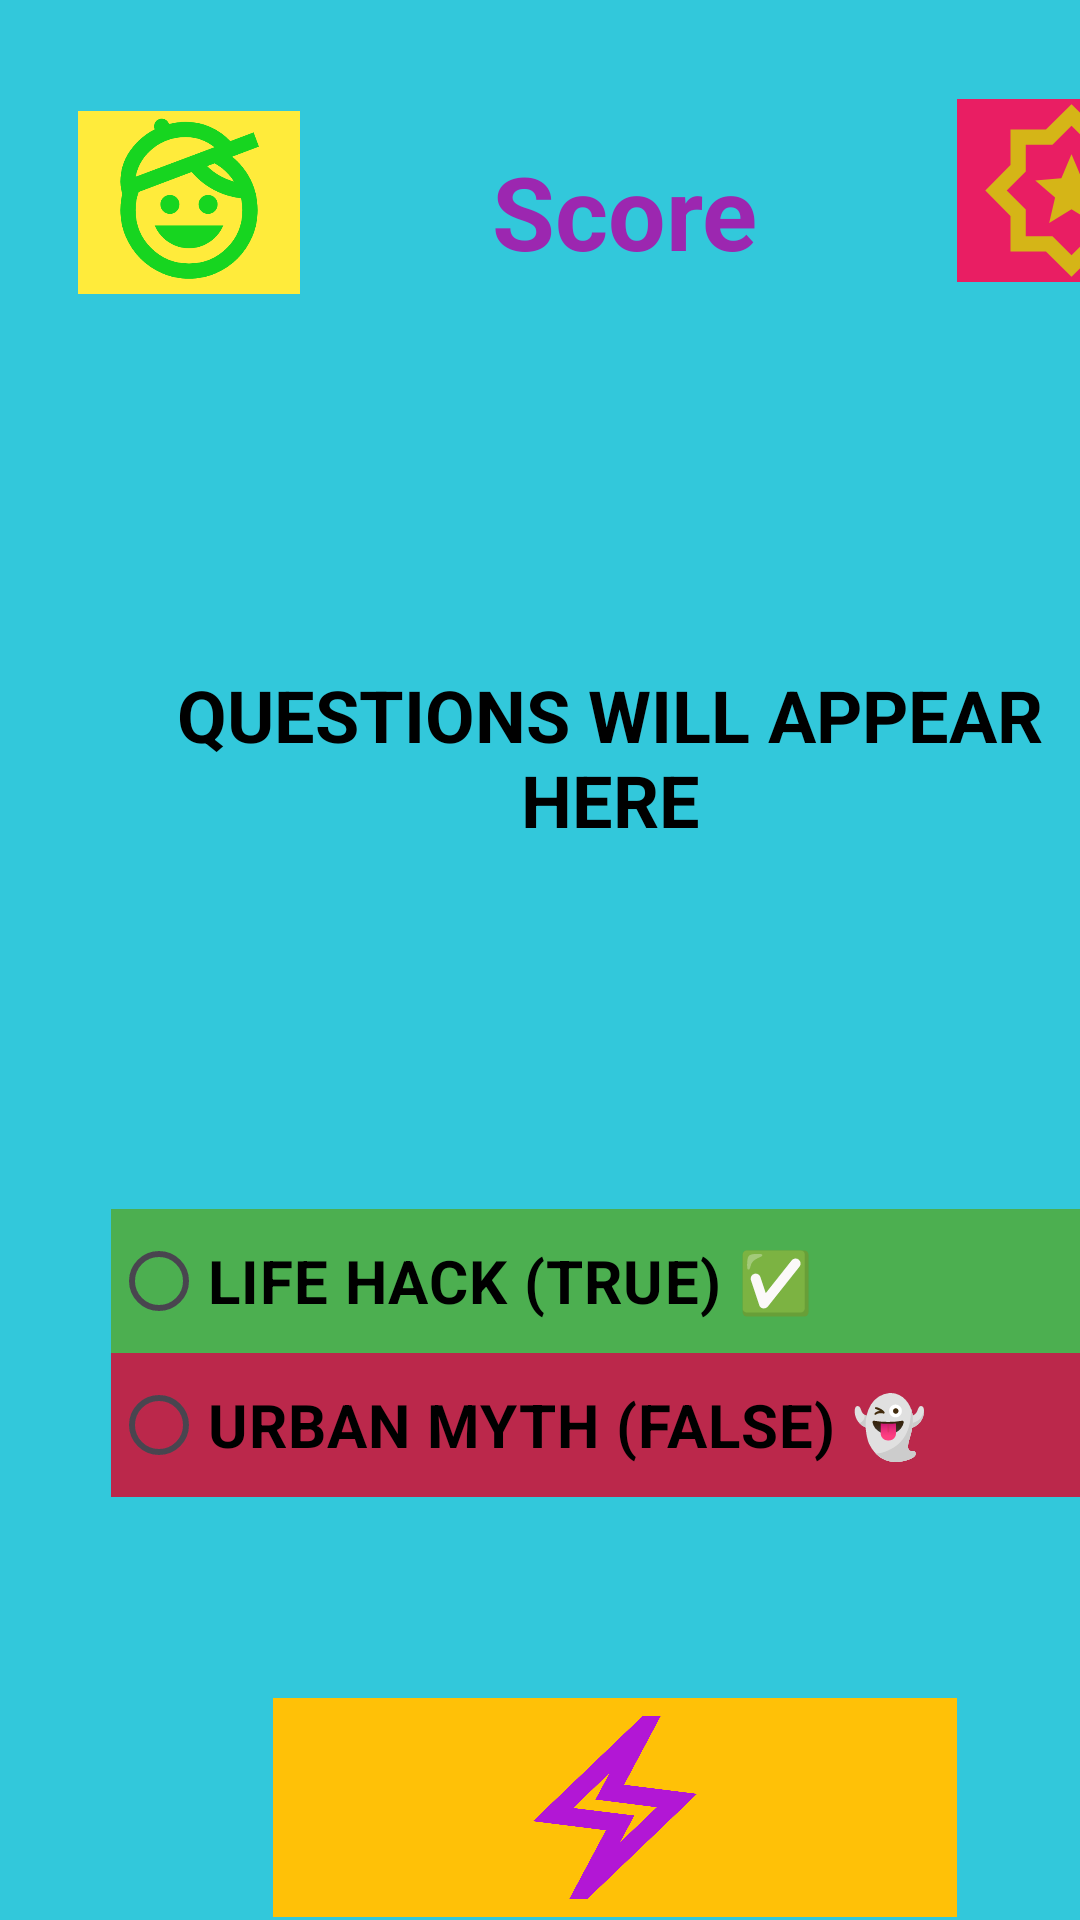

Icon bounding boxes for this 1080x1920 phone screenshot, format (x1, y1, x2, y2):
child hat: (78, 111, 300, 294)
